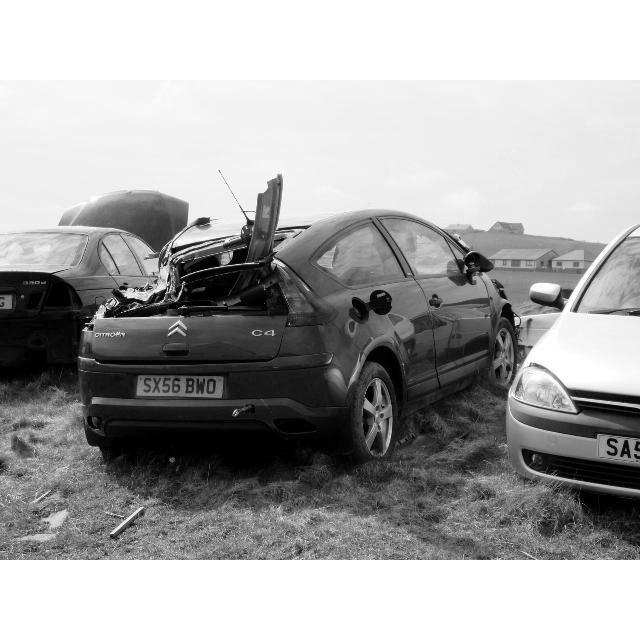Rear-windscreen-Damage: (101, 241, 300, 314)
boot-dent: (89, 330, 292, 375)
roof-dent: (170, 201, 400, 249)
